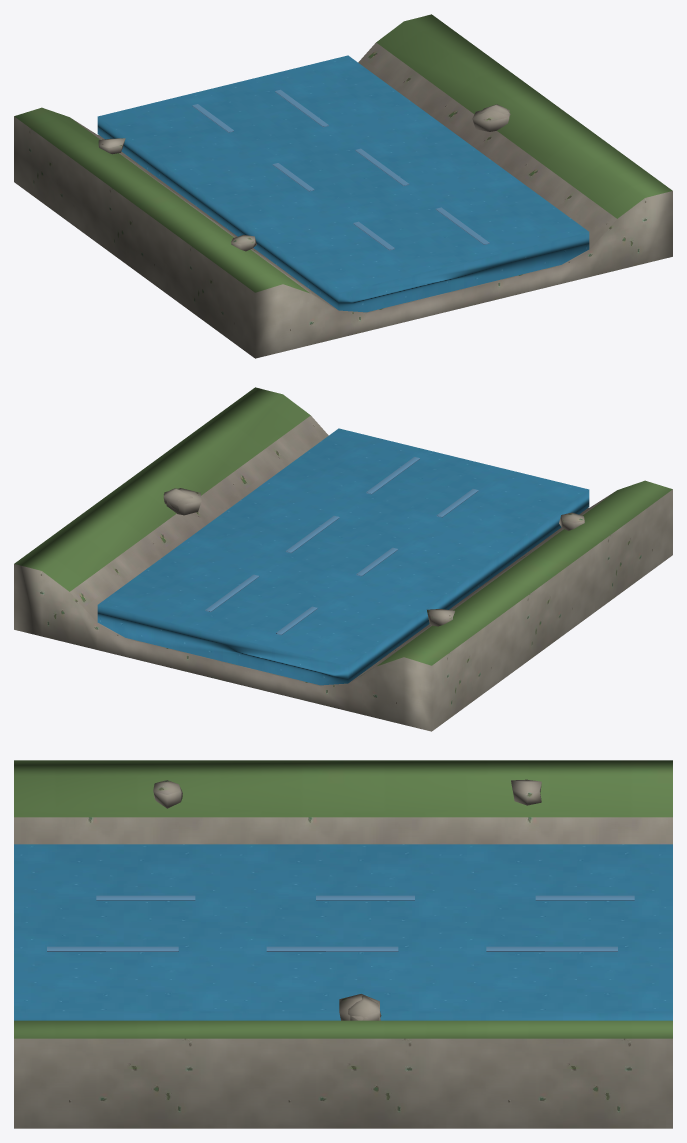
Rendered from river.straight.glb.
The picture shows the model from 3 angles, top to bottom: view 1: azimuth 30°, elevation 25°; view 2: azimuth 150°, elevation 25°; view 3: azimuth 270°, elevation 25°; orthographic projection. The views are drawn at different scales.
Visible parts, largest first — view 1: scenery.river.straight.mesh, ripples; view 2: scenery.river.straight.mesh, ripples; view 3: scenery.river.straight.mesh, ripples.
Part boxes in pixels (x1=…): scenery.river.straight.mesh: x1=14, y1=14, x2=672, y2=358; ripples: x1=192, y1=89, x2=489, y2=250; scenery.river.straight.mesh: x1=14, y1=387, x2=672, y2=731; ripples: x1=205, y1=457, x2=478, y2=635; scenery.river.straight.mesh: x1=14, y1=760, x2=672, y2=1128; ripples: x1=47, y1=895, x2=634, y2=951.
Bounding box in the file's own units: 6 × 0.9707 × 6.
4 materials, 3 textured.
